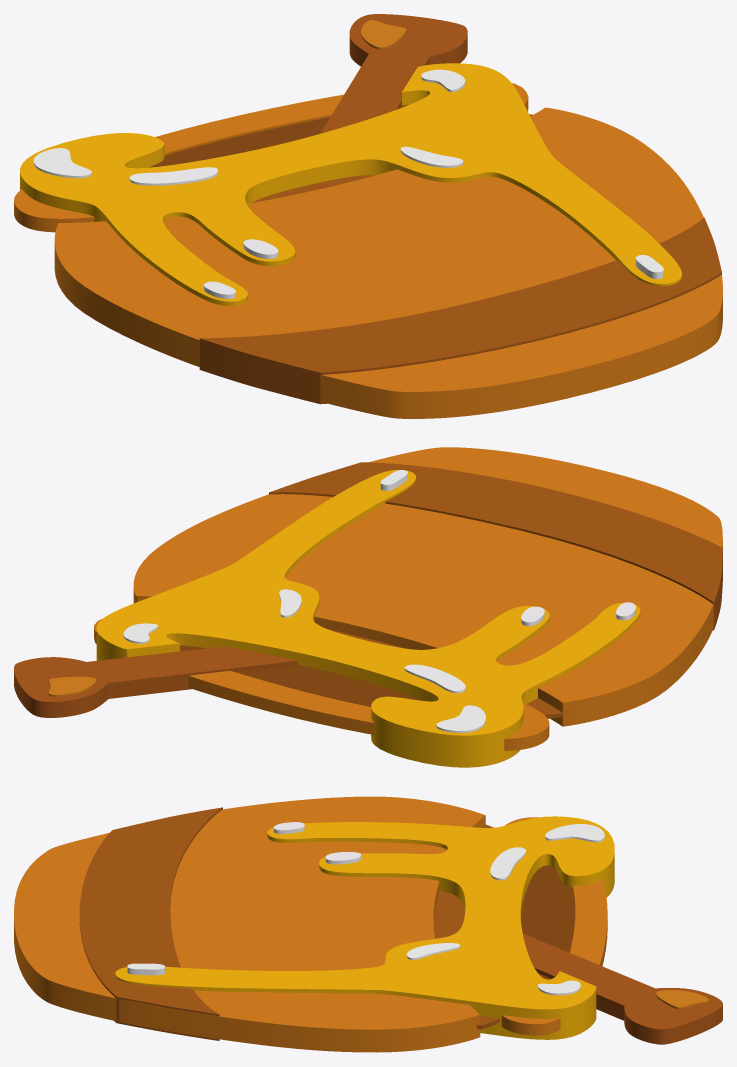
File: emoji_u1f36f.glb
The picture shows the model from 3 angles, top to bottom: view 1: azimuth 30°, elevation 25°; view 2: azimuth 150°, elevation 25°; view 3: azimuth 270°, elevation 25°; orthographic projection. The views are drawn at different scales.
Visible parts, largest first — view 1: emoji_u1f36f; view 2: emoji_u1f36f; view 3: emoji_u1f36f.
Boxes of the visible parts, x1=… form: emoji_u1f36f: x1=14, y1=14, x2=722, y2=418; emoji_u1f36f: x1=14, y1=447, x2=722, y2=767; emoji_u1f36f: x1=14, y1=796, x2=722, y2=1052.
Bounding box in the file's own units: 0.0263 × 0.0022 × 0.0338.
